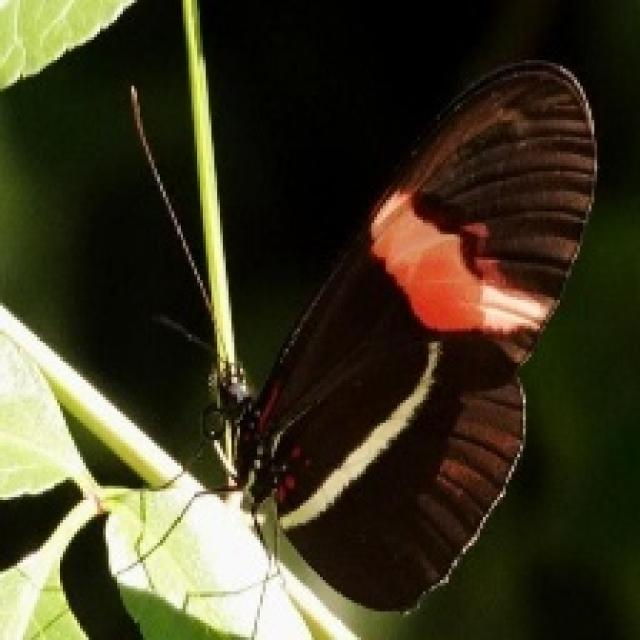butterfly: (103, 54, 600, 637)
